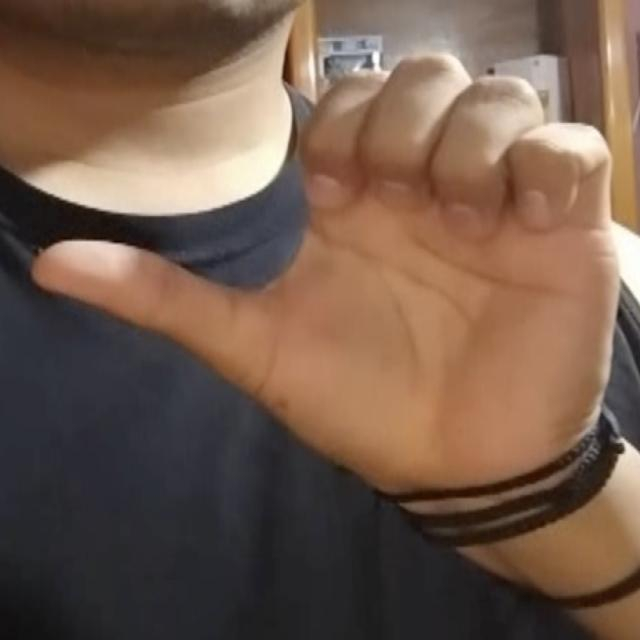A: (26, 41, 624, 512)
